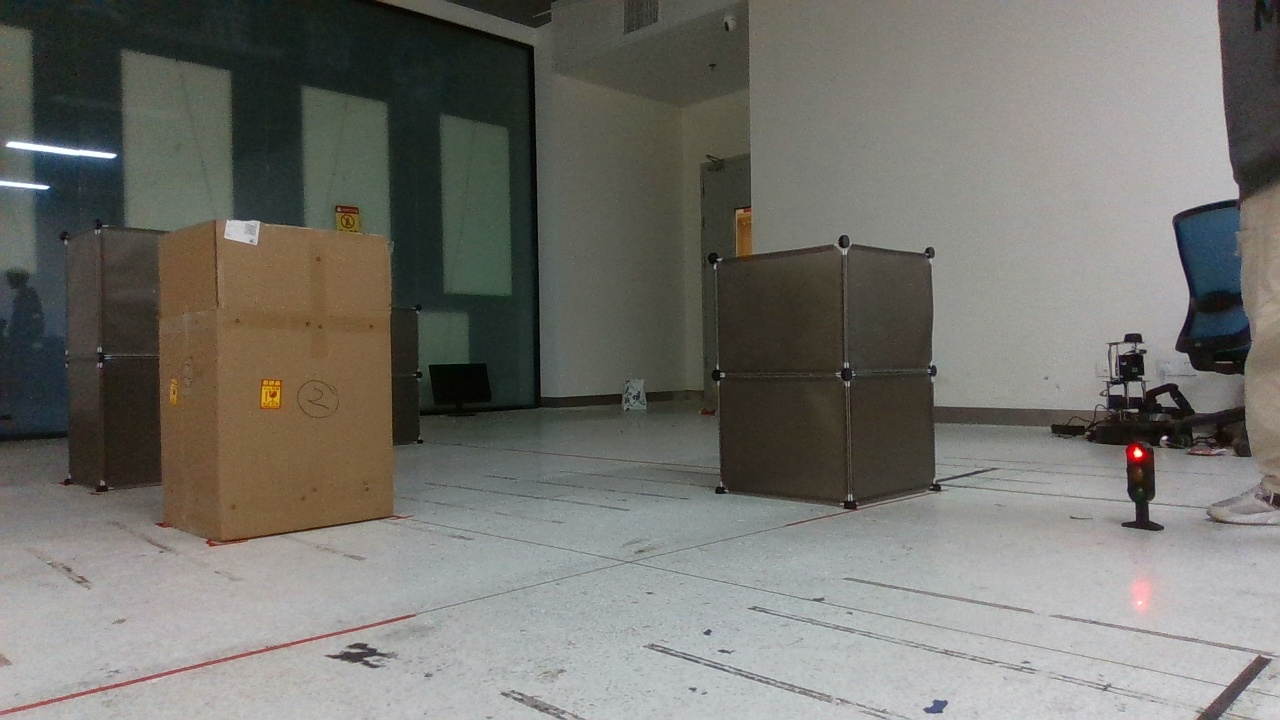red_light: (1117, 431, 1173, 536)
